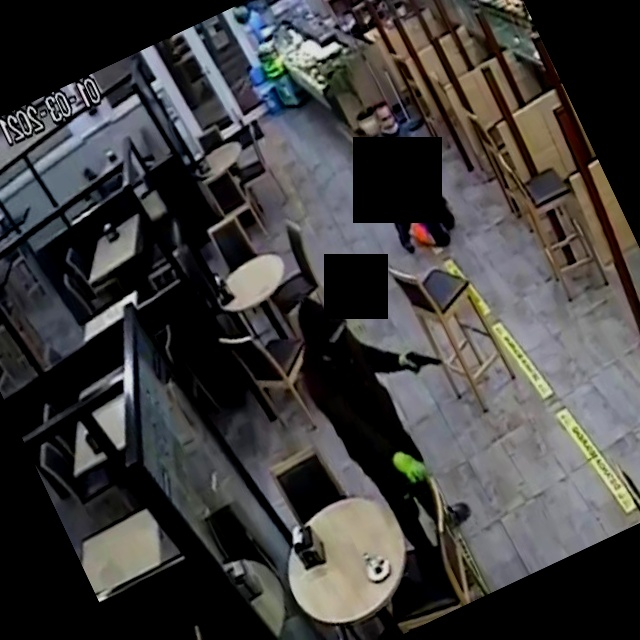gun: (390, 327, 455, 393)
